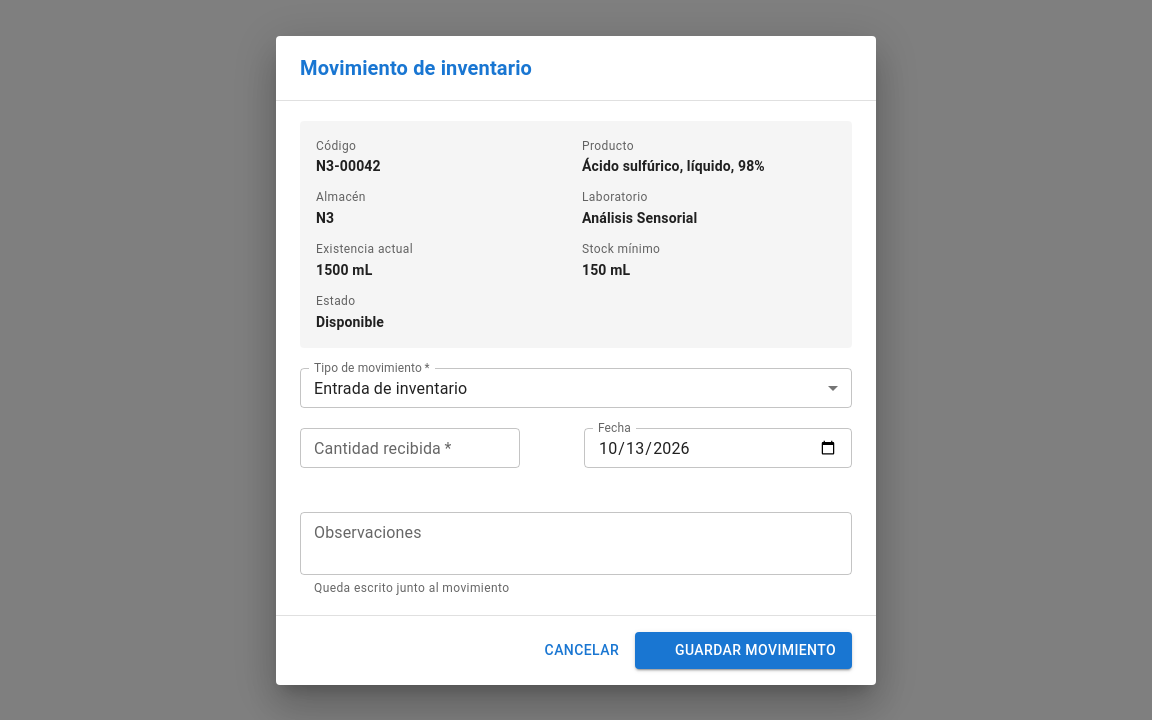
DialogoMovimiento › no deja descontar más de lo que hay
Click the dropdown named "Tipo de movimiento" at (391, 388), box [314,379,467,398]
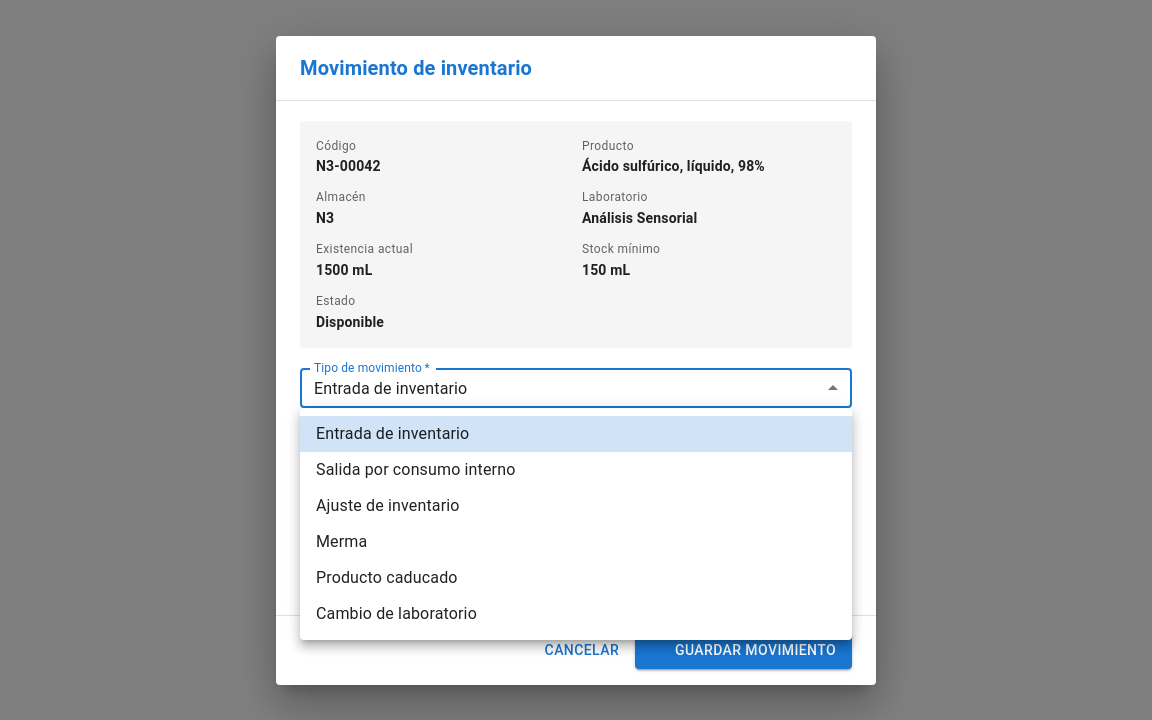
Click the option "Salida por consumo interno" at (416, 470), box [316,460,516,479]
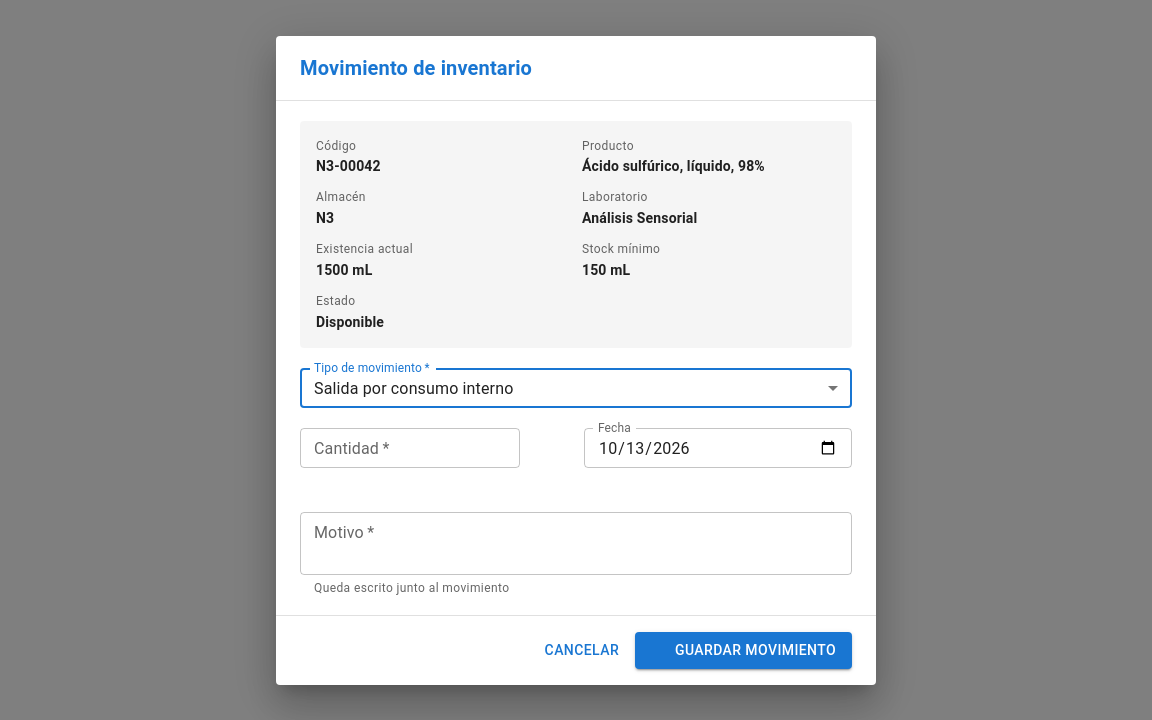
Type "2000" into the number field labelled "Cantidad *" at (410, 448), box [300,428,520,468]
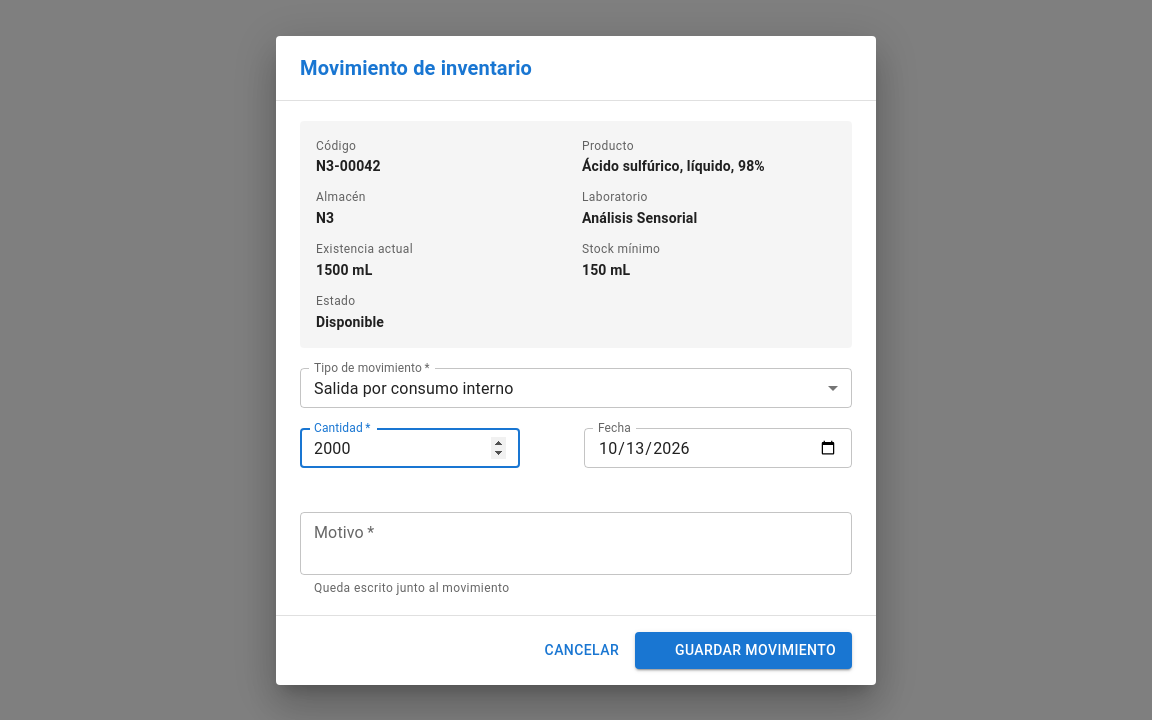
Type "Práctica" into the text box labelled "Motivo *" at (576, 544), box [314,521,838,567]
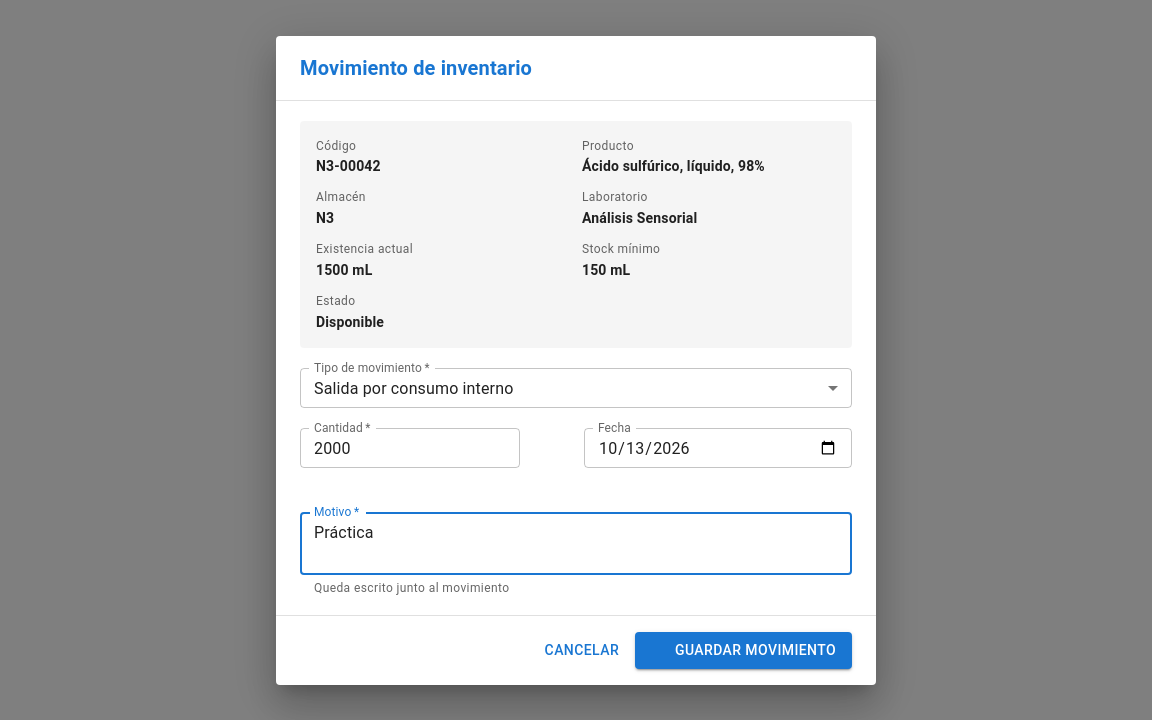
Click the button "Guardar movimiento" at (744, 650), box [635,632,852,668]
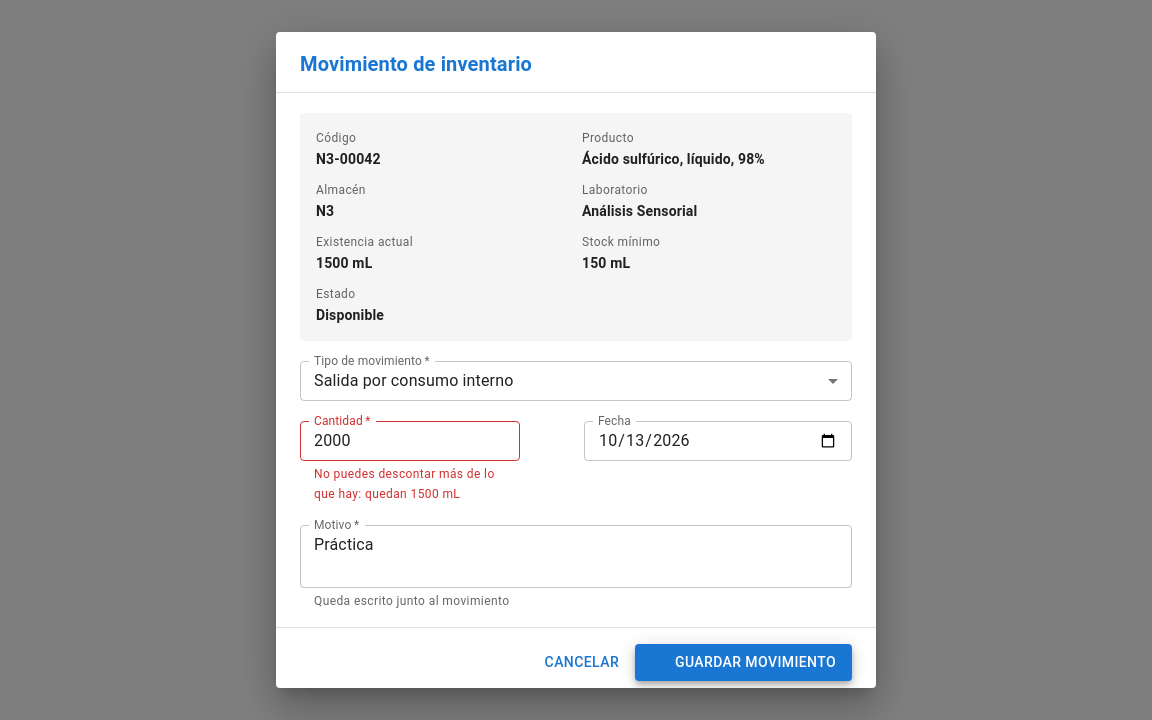
Expected: the text "No puedes descontar más de lo que hay: quedan 1500 mL" is shown, [314,465,506,504]
